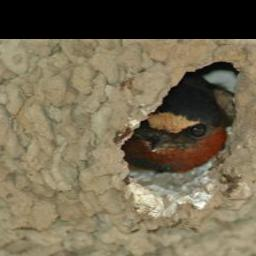Swallow: (121, 74, 229, 173)
